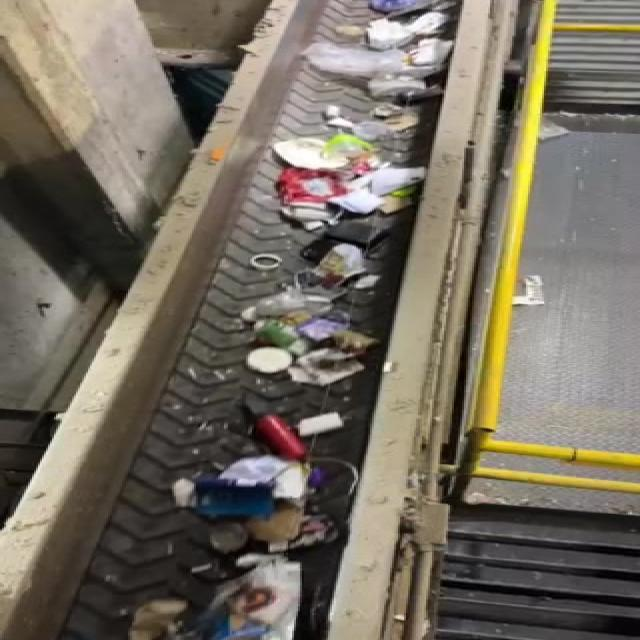pet: (222, 402, 328, 462)
pp: (195, 478, 286, 521)
ps: (205, 563, 301, 640)
